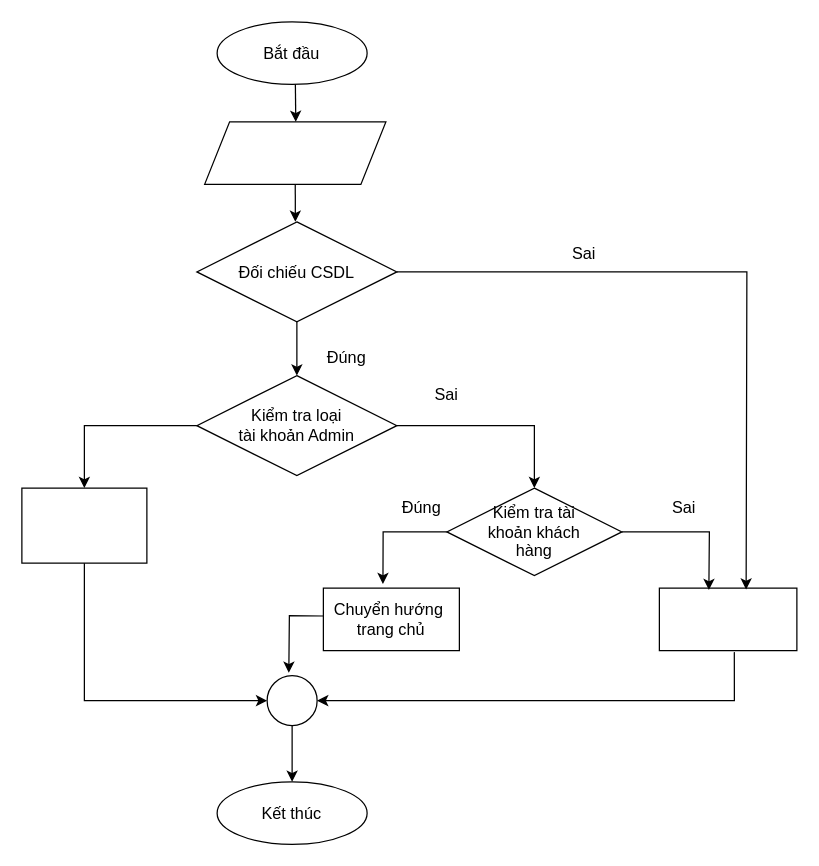
The diagram is 819 pixels wide and 866 high, and some of its shapes have lost their labels. Here are the shapes that lost their labels. From the top down, the centre of each, then its label:
At (294,152): "Tài khoản và mật khẩu".
At (84,525): "Chuyển hướng trang Admin".
At (727,619): "Thông báo đăng nhập không thành công".
